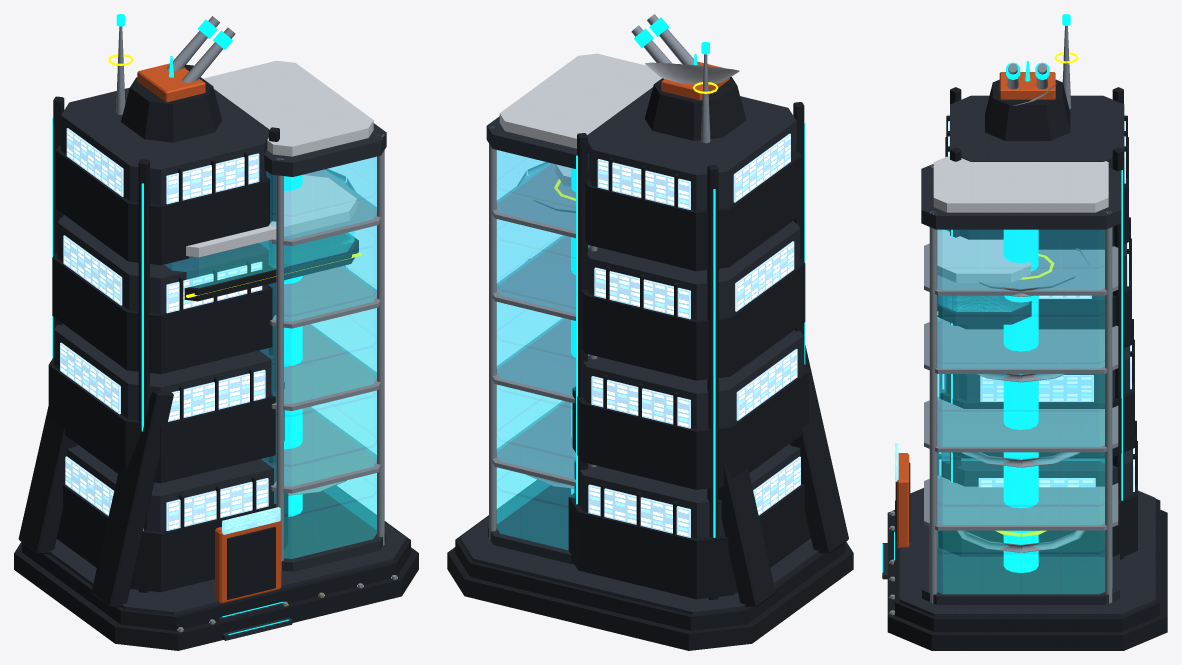
Rendered from bldg_20_r1_05.glb.
3 renders of one model, left to right at view 1: azimuth 30°, elevation 25°; view 2: azimuth 150°, elevation 25°; view 3: azimuth 270°, elevation 25°, orthographic. The views are drawn at different scales.
Visible parts, largest first — view 1: Bldg20_C05_gunmetal, Bldg20_C05_carbon_slate, Bldg20_C05_glass_cyan, Bldg20_C05_steel_machined, Bldg20_C05_window_lit, Bldg20_C05_aero_white, Bldg20_C05_led_cyan, Bldg20_C05_accent_orange, Bldg20_C05_marquee; view 2: Bldg20_C05_gunmetal, Bldg20_C05_carbon_slate, Bldg20_C05_glass_cyan, Bldg20_C05_steel_machined, Bldg20_C05_window_lit, Bldg20_C05_aero_white, Bldg20_C05_led_cyan, Bldg20_C05_accent_orange; view 3: Bldg20_C05_glass_cyan, Bldg20_C05_steel_machined, Bldg20_C05_gunmetal, Bldg20_C05_carbon_slate, Bldg20_C05_aero_white, Bldg20_C05_led_cyan, Bldg20_C05_window_lit, Bldg20_C05_accent_orange, Bldg20_C05_led_amber.
Part boxes in pixels (bbox=[...]): Bldg20_C05_gunmetal: bbox=[14, 64, 418, 650]; Bldg20_C05_carbon_slate: bbox=[48, 87, 406, 640]; Bldg20_C05_glass_cyan: bbox=[164, 156, 376, 558]; Bldg20_C05_steel_machined: bbox=[116, 16, 396, 632]; Bldg20_C05_window_lit: bbox=[60, 128, 268, 530]; Bldg20_C05_aero_white: bbox=[186, 60, 373, 257]; Bldg20_C05_led_cyan: bbox=[52, 14, 302, 634]; Bldg20_C05_accent_orange: bbox=[137, 63, 281, 603]; Bldg20_C05_marquee: bbox=[222, 507, 280, 534]; Bldg20_C05_gunmetal: bbox=[447, 76, 853, 650]; Bldg20_C05_carbon_slate: bbox=[460, 87, 818, 614]; Bldg20_C05_glass_cyan: bbox=[496, 150, 589, 549]; Bldg20_C05_steel_machined: bbox=[489, 14, 710, 540]; Bldg20_C05_window_lit: bbox=[588, 133, 800, 537]; Bldg20_C05_aero_white: bbox=[499, 53, 739, 186]; Bldg20_C05_led_cyan: bbox=[571, 17, 805, 537]; Bldg20_C05_accent_orange: bbox=[661, 61, 729, 100]; Bldg20_C05_glass_cyan: bbox=[937, 229, 1112, 593]; Bldg20_C05_steel_machined: bbox=[890, 26, 1118, 615]; Bldg20_C05_gunmetal: bbox=[887, 79, 1167, 650]; Bldg20_C05_carbon_slate: bbox=[882, 95, 1155, 616]; Bldg20_C05_aero_white: bbox=[933, 72, 1108, 282]; Bldg20_C05_led_cyan: bbox=[882, 14, 1122, 572]; Bldg20_C05_window_lit: bbox=[939, 114, 1134, 491]; Bldg20_C05_accent_orange: bbox=[896, 72, 1055, 548]; Bldg20_C05_led_amber: bbox=[889, 52, 1078, 613].
Size of the model in its own units: 12.53 by 21.92 by 10.71.
10 materials, 10 textured.
